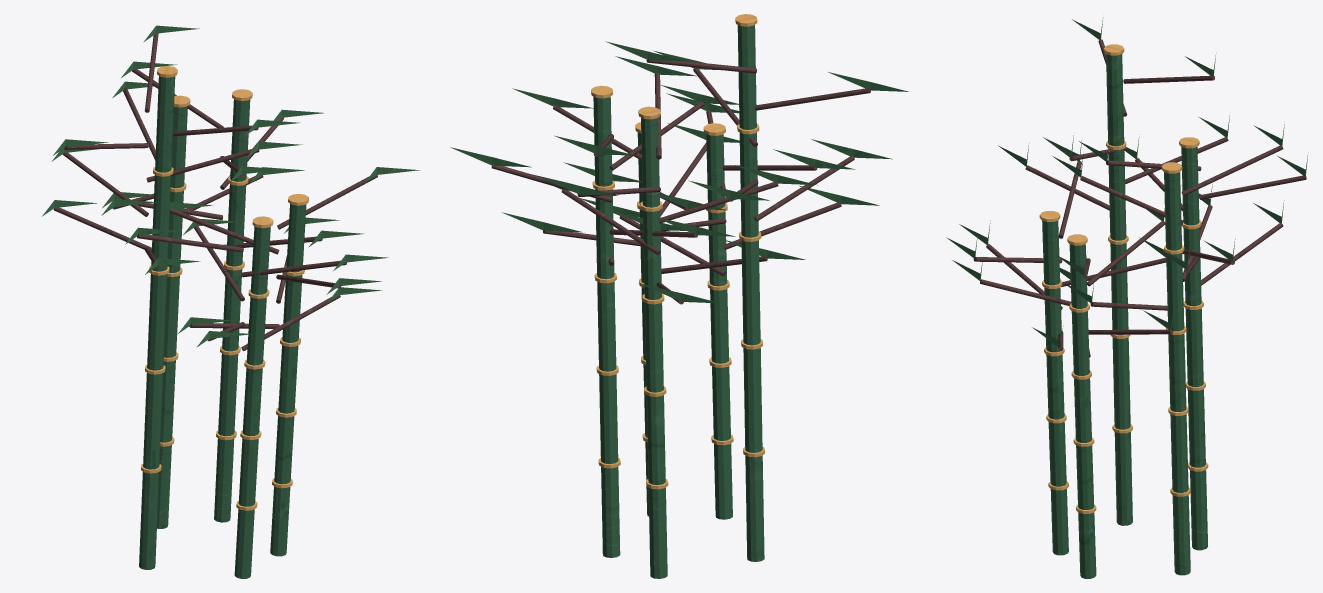
File: moonfall_bamboo_grove_lod0.glb
3 renders of one model, left to right at view 1: azimuth 30°, elevation 25°; view 2: azimuth 150°, elevation 25°; view 3: azimuth 270°, elevation 25°, orthographic. The views are drawn at different scales.
Parts seen in each view (by area): view 1: moonfall_bamboo_grove_050, moonfall_bamboo_grove_058, moonfall_bamboo_grove_052, moonfall_bamboo_grove_054, moonfall_bamboo_grove_025, moonfall_bamboo_grove_027, moonfall_bamboo_grove_056, moonfall_bamboo_grove_031, moonfall_bamboo_grove_000, moonfall_bamboo_grove_075, moonfall_bamboo_grove_002, moonfall_bamboo_grove_006 (+19 smaller); view 2: moonfall_bamboo_grove_050, moonfall_bamboo_grove_054, moonfall_bamboo_grove_052, moonfall_bamboo_grove_058, moonfall_bamboo_grove_025, moonfall_bamboo_grove_100, moonfall_bamboo_grove_029, moonfall_bamboo_grove_102, moonfall_bamboo_grove_104, moonfall_bamboo_grove_027, moonfall_bamboo_grove_056, moonfall_bamboo_grove_108 (+14 smaller); view 3: moonfall_bamboo_grove_050, moonfall_bamboo_grove_058, moonfall_bamboo_grove_052, moonfall_bamboo_grove_056, moonfall_bamboo_grove_025, moonfall_bamboo_grove_100, moonfall_bamboo_grove_102, moonfall_bamboo_grove_033, moonfall_bamboo_grove_027, moonfall_bamboo_grove_104, moonfall_bamboo_grove_029, moonfall_bamboo_grove_054 (+22 smaller).
Part boxes in pixels (bbox=[...]): moonfall_bamboo_grove_050: bbox=[139, 472, 159, 569]; moonfall_bamboo_grove_058: bbox=[155, 76, 175, 172]; moonfall_bamboo_grove_052: bbox=[143, 373, 163, 469]; moonfall_bamboo_grove_054: bbox=[147, 274, 167, 370]; moonfall_bamboo_grove_025: bbox=[214, 438, 234, 522]; moonfall_bamboo_grove_027: bbox=[218, 354, 238, 436]; moonfall_bamboo_grove_056: bbox=[151, 175, 171, 271]; moonfall_bamboo_grove_031: bbox=[226, 184, 246, 266]; moonfall_bamboo_grove_000: bbox=[234, 509, 254, 578]; moonfall_bamboo_grove_075: bbox=[270, 486, 290, 556]; moonfall_bamboo_grove_002: bbox=[238, 438, 258, 506]; moonfall_bamboo_grove_006: bbox=[246, 297, 266, 365]; moonfall_bamboo_grove_050: bbox=[745, 455, 764, 561]; moonfall_bamboo_grove_054: bbox=[741, 240, 760, 345]; moonfall_bamboo_grove_052: bbox=[743, 348, 762, 452]; moonfall_bamboo_grove_058: bbox=[737, 25, 756, 129]; moonfall_bamboo_grove_025: bbox=[601, 466, 620, 557]; moonfall_bamboo_grove_100: bbox=[648, 487, 667, 578]; moonfall_bamboo_grove_029: bbox=[597, 281, 616, 371]; moonfall_bamboo_grove_102: bbox=[646, 395, 665, 484]; moonfall_bamboo_grove_104: bbox=[644, 302, 663, 392]; moonfall_bamboo_grove_027: bbox=[599, 374, 618, 464]; moonfall_bamboo_grove_056: bbox=[739, 132, 758, 237]; moonfall_bamboo_grove_108: bbox=[641, 117, 659, 207]; moonfall_bamboo_grove_050: bbox=[1114, 432, 1132, 525]; moonfall_bamboo_grove_058: bbox=[1106, 54, 1124, 146]; moonfall_bamboo_grove_052: bbox=[1112, 337, 1130, 429]; moonfall_bamboo_grove_056: bbox=[1108, 148, 1126, 240]; moonfall_bamboo_grove_025: bbox=[1172, 495, 1190, 575]; moonfall_bamboo_grove_100: bbox=[1190, 470, 1207, 550]; moonfall_bamboo_grove_102: bbox=[1187, 389, 1205, 467]; moonfall_bamboo_grove_033: bbox=[1164, 172, 1181, 250]; moonfall_bamboo_grove_027: bbox=[1170, 414, 1188, 492]; moonfall_bamboo_grove_104: bbox=[1185, 308, 1203, 386]; moonfall_bamboo_grove_029: bbox=[1168, 334, 1186, 412]; moonfall_bamboo_grove_054: bbox=[1110, 243, 1128, 335].
Bounding box in the file's own units: 7.89 × 9.84 × 6.73.
Materials: 4 (4 with a texture image).
